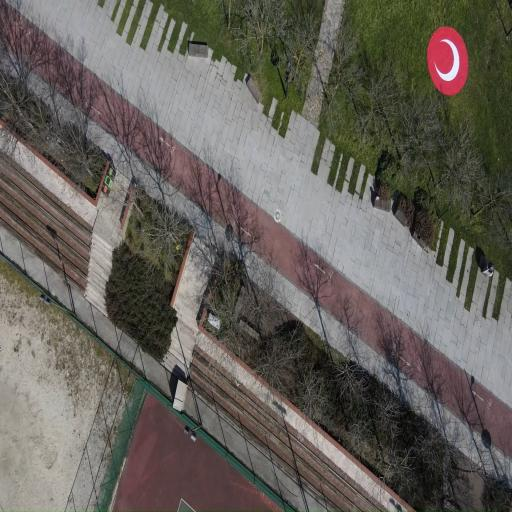UAP: (427, 27, 468, 95)
